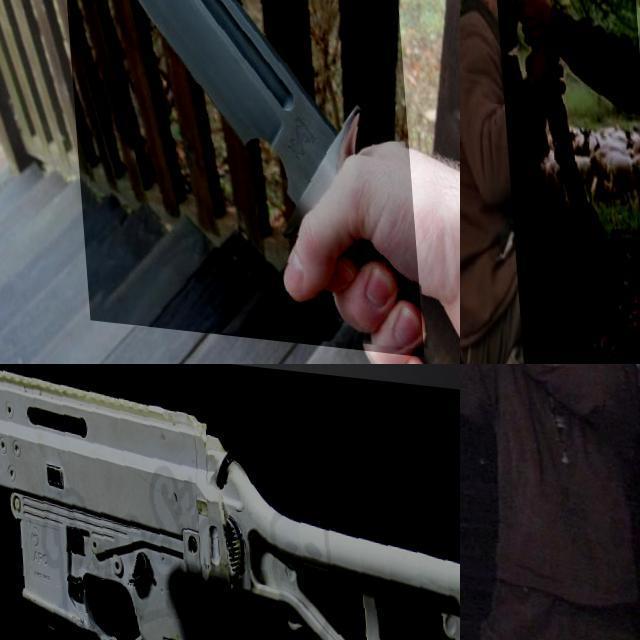-: (51, 0, 415, 346)
gun-knife-thesis - v11 Yolov5 augmented: (0, 364, 460, 640), (485, 0, 640, 364), (460, 364, 513, 416)
